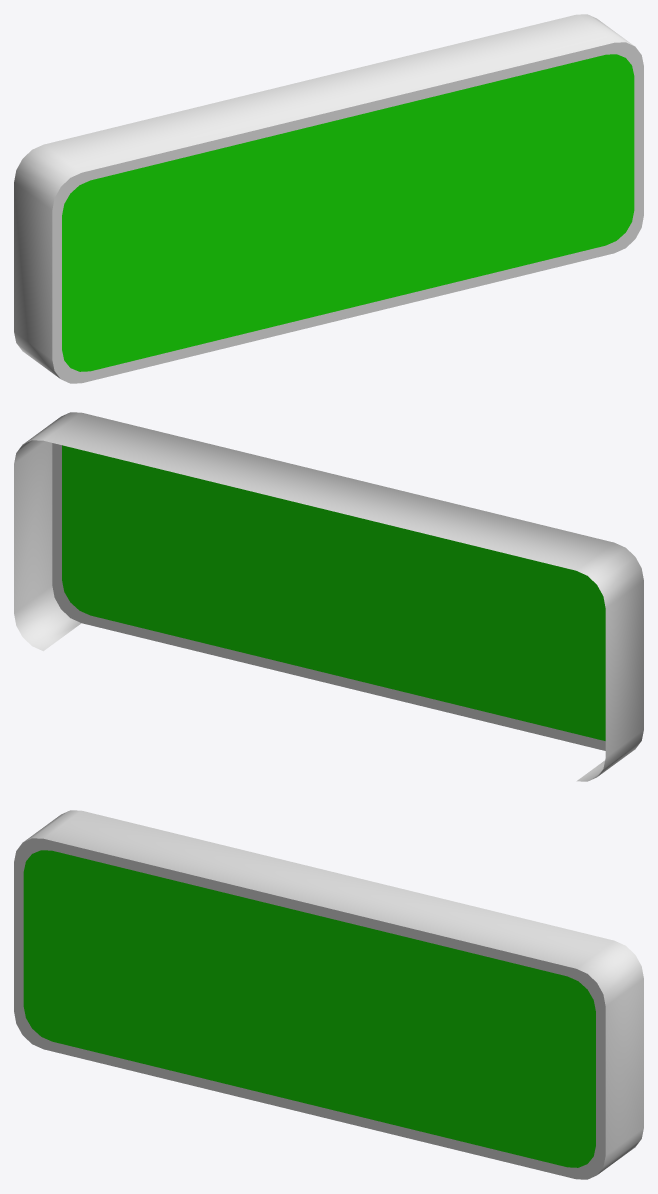
The model's file is gate.fbx.
3 renders of one model, top to bottom at view 1: azimuth 30°, elevation 25°; view 2: azimuth 150°, elevation 25°; view 3: azimuth 330°, elevation 25°, orthographic.
Visible parts, largest first — view 1: Cube; view 2: Cube; view 3: Cube.
Part boxes in pixels (box(x1,y1,x2,y2)): Cube: box(14, 14, 643, 383); Cube: box(14, 412, 643, 781); Cube: box(14, 810, 643, 1179).
Size of the model in its own units: 588 by 200 by 66.
